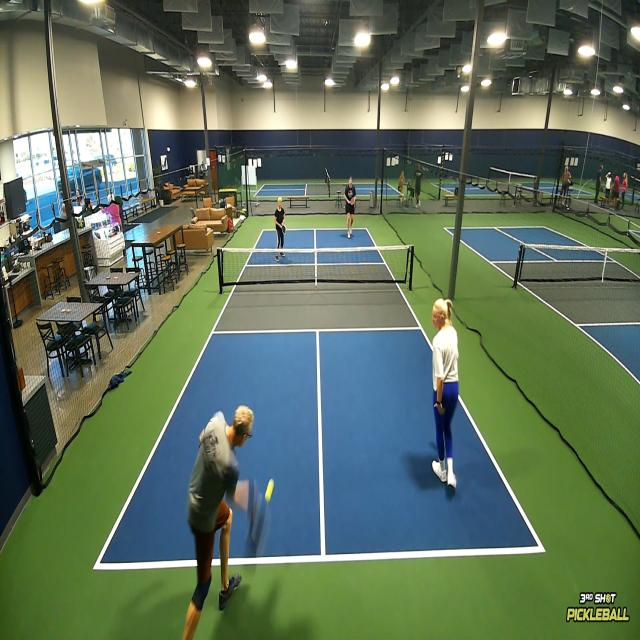Pickleball: (264, 476, 276, 506)
